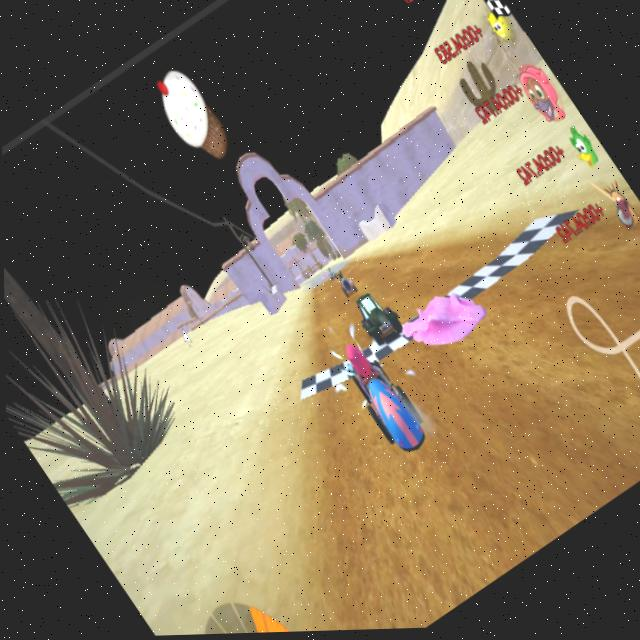enemy_kart: (333, 274, 356, 298)
obstacle: (395, 280, 502, 386)
off_track: (3, 231, 349, 596), (329, 105, 500, 256)
player_kart: (322, 330, 439, 477)
